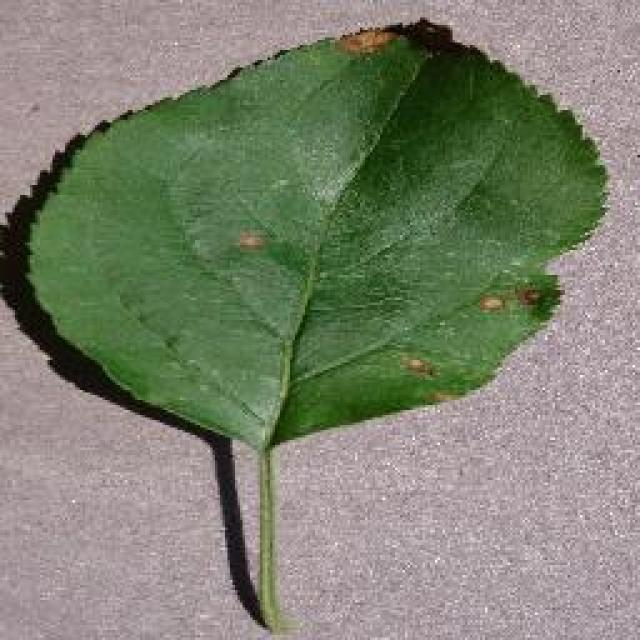apple black rot: (0, 14, 612, 637)
